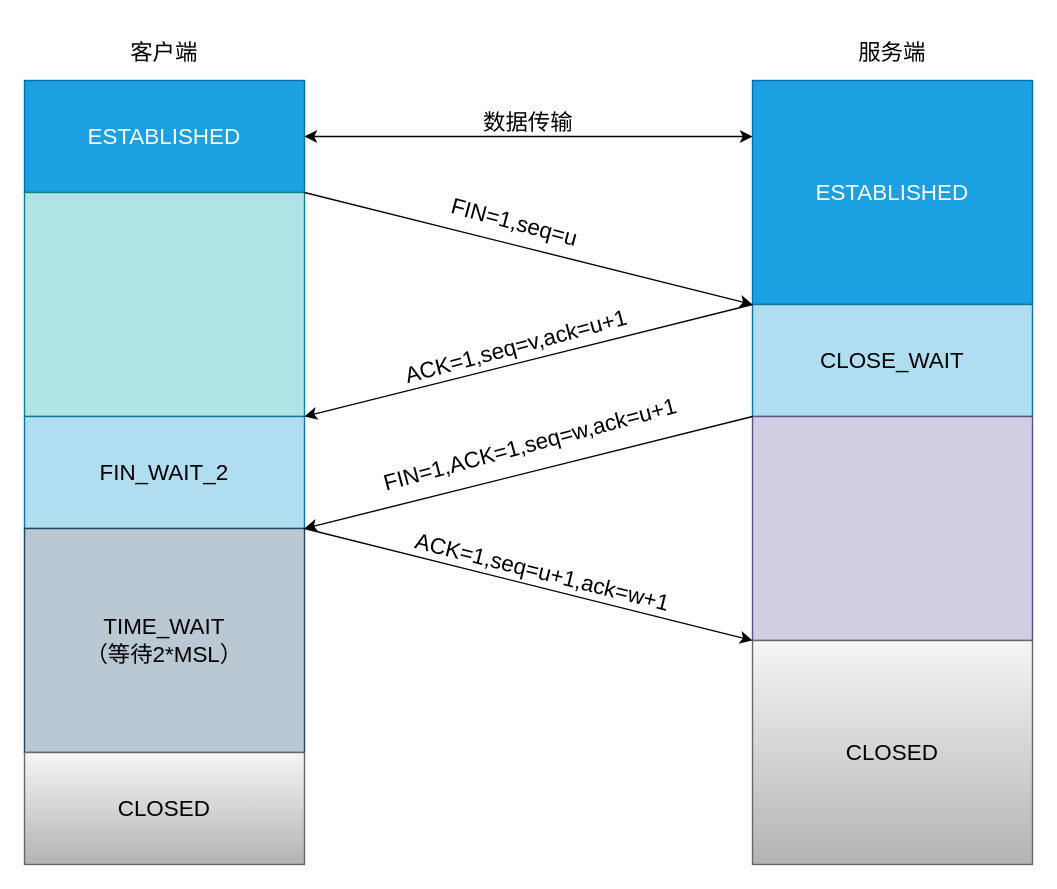
Image size: 1057x889. Some labels were removed from this diagram. The shapes that lost their labels are listed below. From the top down, each one's centre as x and y in pixels, then its label:
At (x=163, y=303): "FIN_WAIT_1".
At (x=891, y=527): "LAST_ACK".
